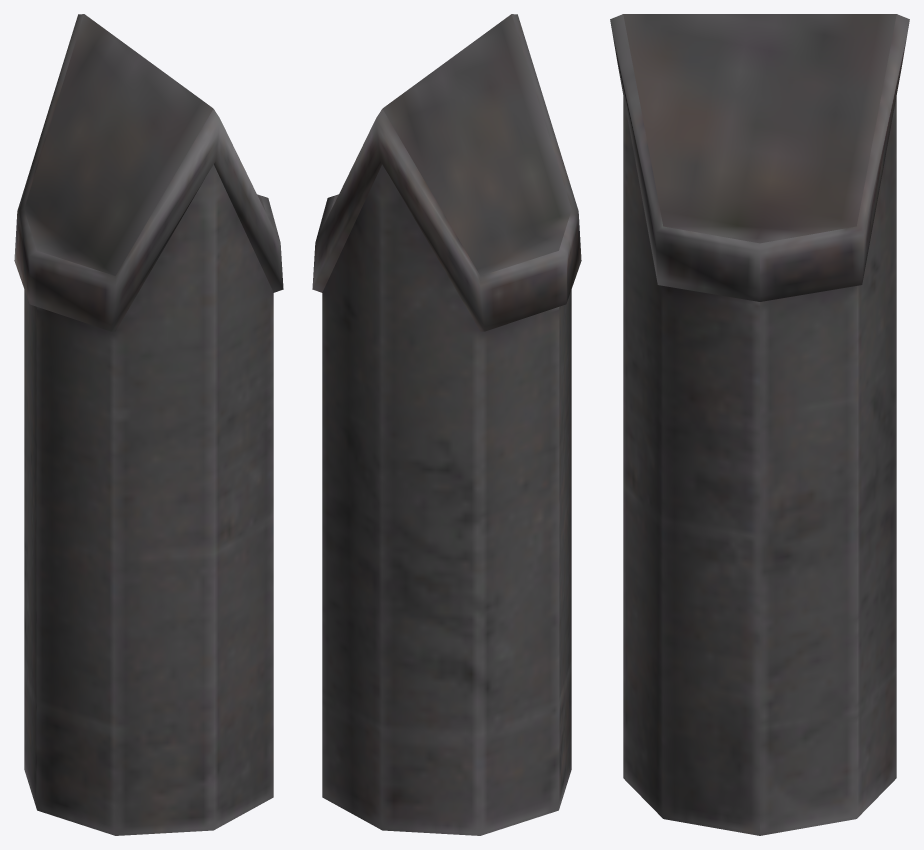
The model's file is sm_dwarf_iron_mattock_pommel_a.fbx.
3 views of the same model, side by side, from view 1: azimuth 30°, elevation 25°; view 2: azimuth 150°, elevation 25°; view 3: azimuth 270°, elevation 25° (orthographic). The views are drawn at different scales.
Parts seen in each view (by area): view 1: sm_dwarf_iron_mattock_pommel_a; view 2: sm_dwarf_iron_mattock_pommel_a; view 3: sm_dwarf_iron_mattock_pommel_a.
Boxes of the visible parts, <box> form: sm_dwarf_iron_mattock_pommel_a: <box>14,14,283,835</box>; sm_dwarf_iron_mattock_pommel_a: <box>312,14,581,835</box>; sm_dwarf_iron_mattock_pommel_a: <box>610,14,909,835</box>.
Bounding box in the file's own units: 0.0693 × 0.0713 × 0.2004.
Materials: 1 (1 with a texture image).
